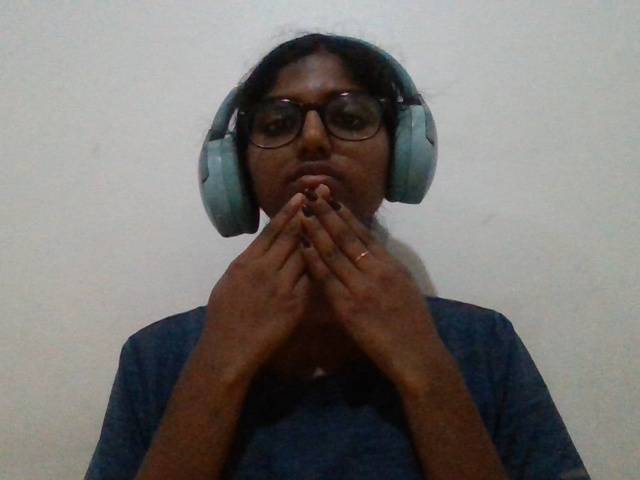Thanks: (187, 142, 456, 448)
